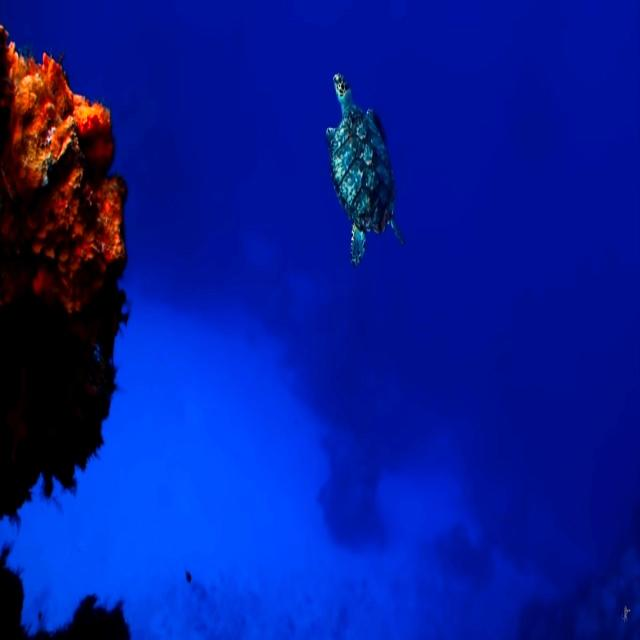Sea turtle: (323, 70, 406, 266)
